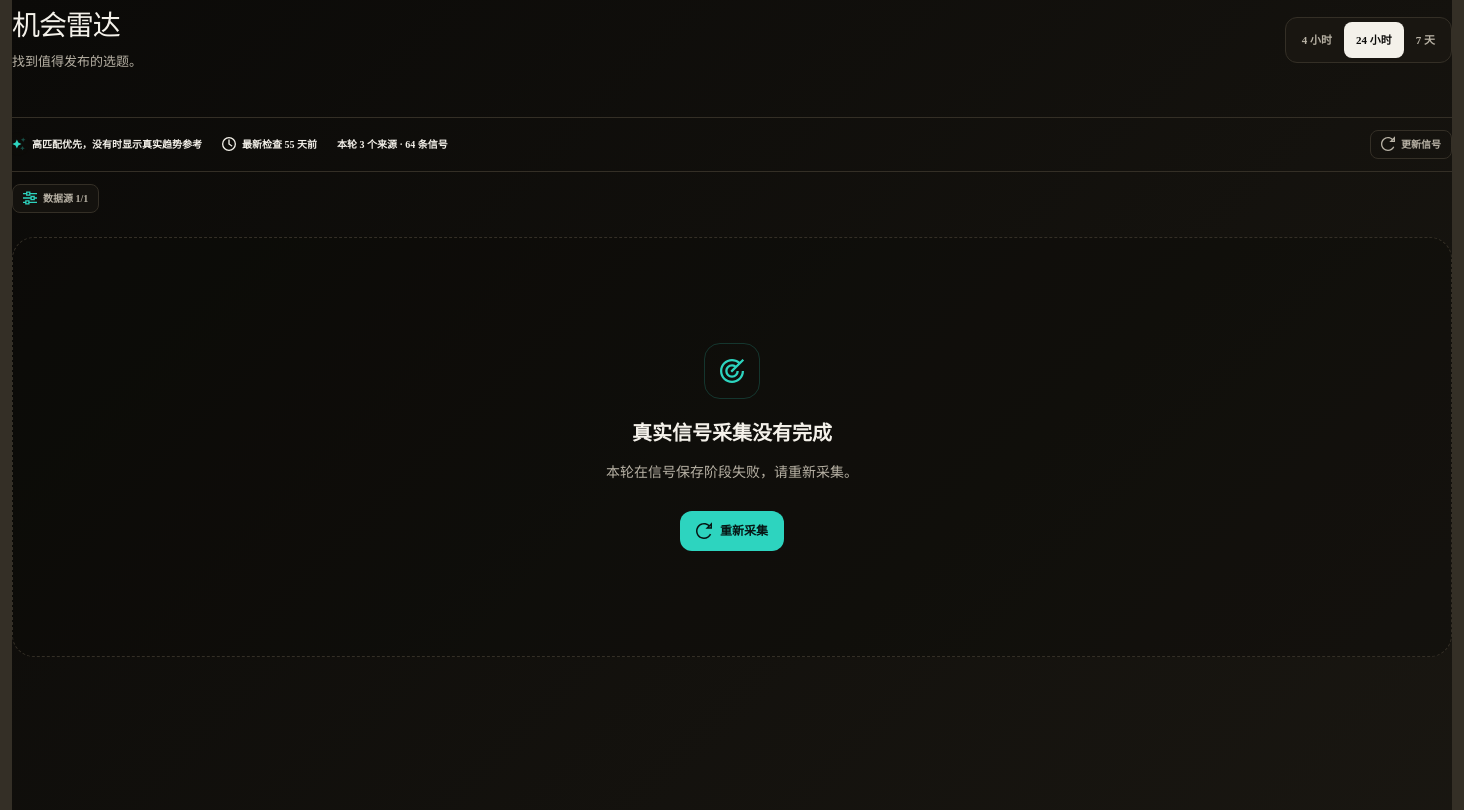
Test: Opportunity Radar first live collection › shows an actionable retry only for a real collection failure
Check: the heading "真实信号采集没有完成" is shown, box x1=632 y1=422 x2=832 y2=444
What coordinates should you click on to do the following:
click the heading "数据源 1/1"
I would click on:
 (56, 198)
Its box is x1=12 y1=184 x2=99 y2=213.
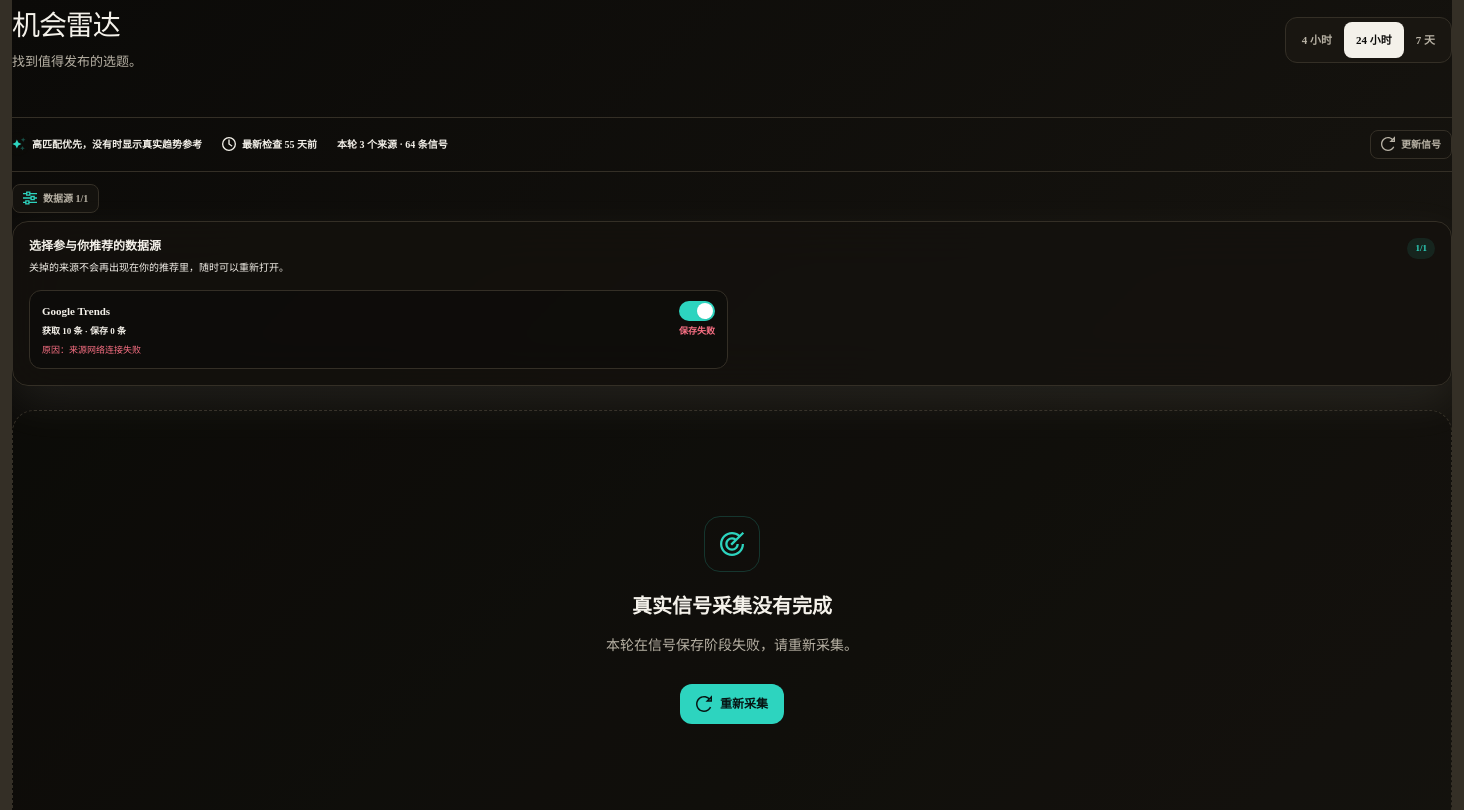
Check: the text "获取 10 条 · 保存 0 条" is shown, box x1=42 y1=325 x2=126 y2=338
Check: the text "保存失败" is shown, box x1=679 y1=325 x2=715 y2=338
Check: the text "原因：来源网络连接失败" is shown, box x1=42 y1=345 x2=141 y2=355
What coordinates should you click on to do the following:
click the button "重新采集"
I would click on:
 (732, 704)
Its box is x1=680 y1=684 x2=784 y2=724.
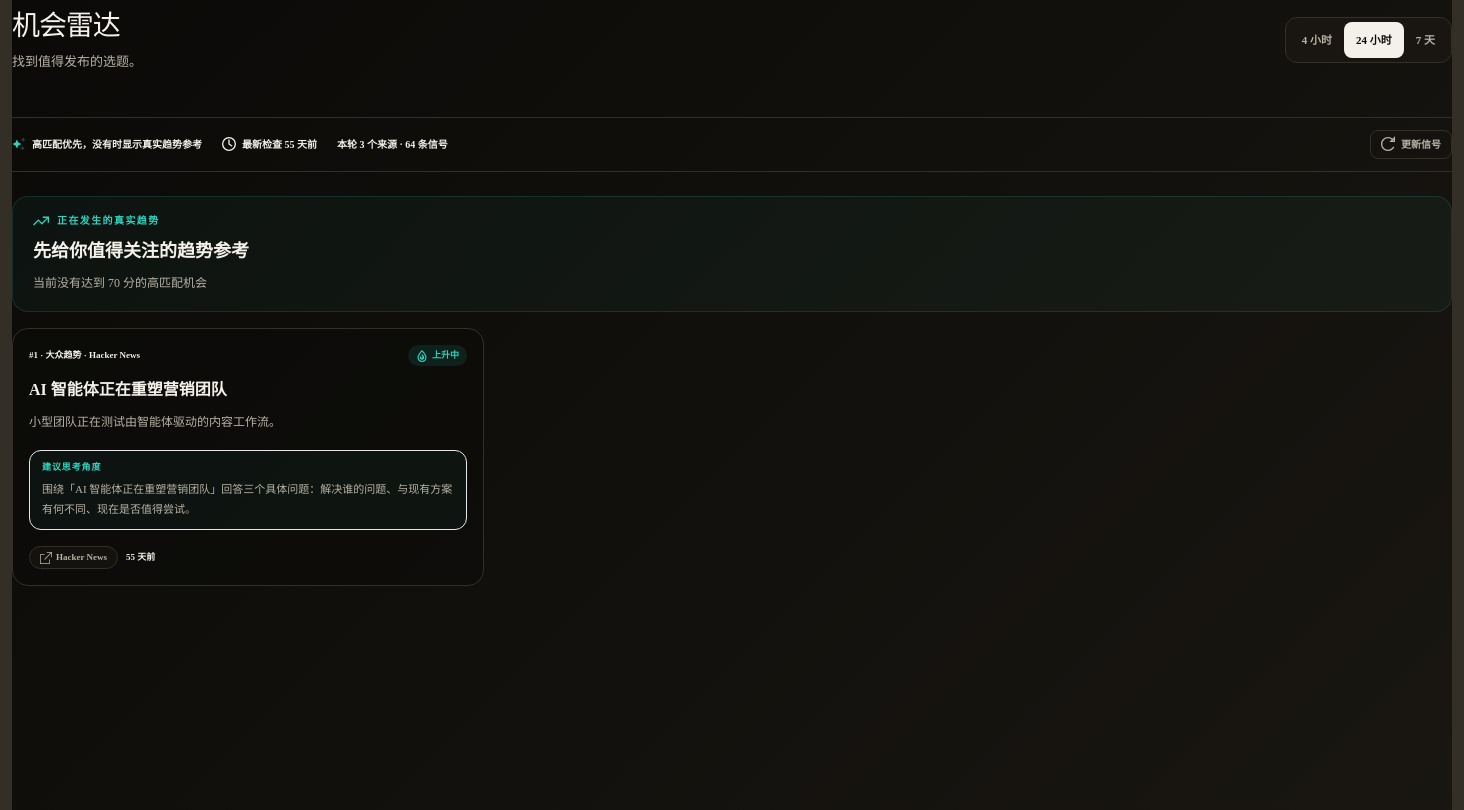
Check: the heading "先给你值得关注的趋势参考" is shown, box x1=33 y1=237 x2=249 y2=265
